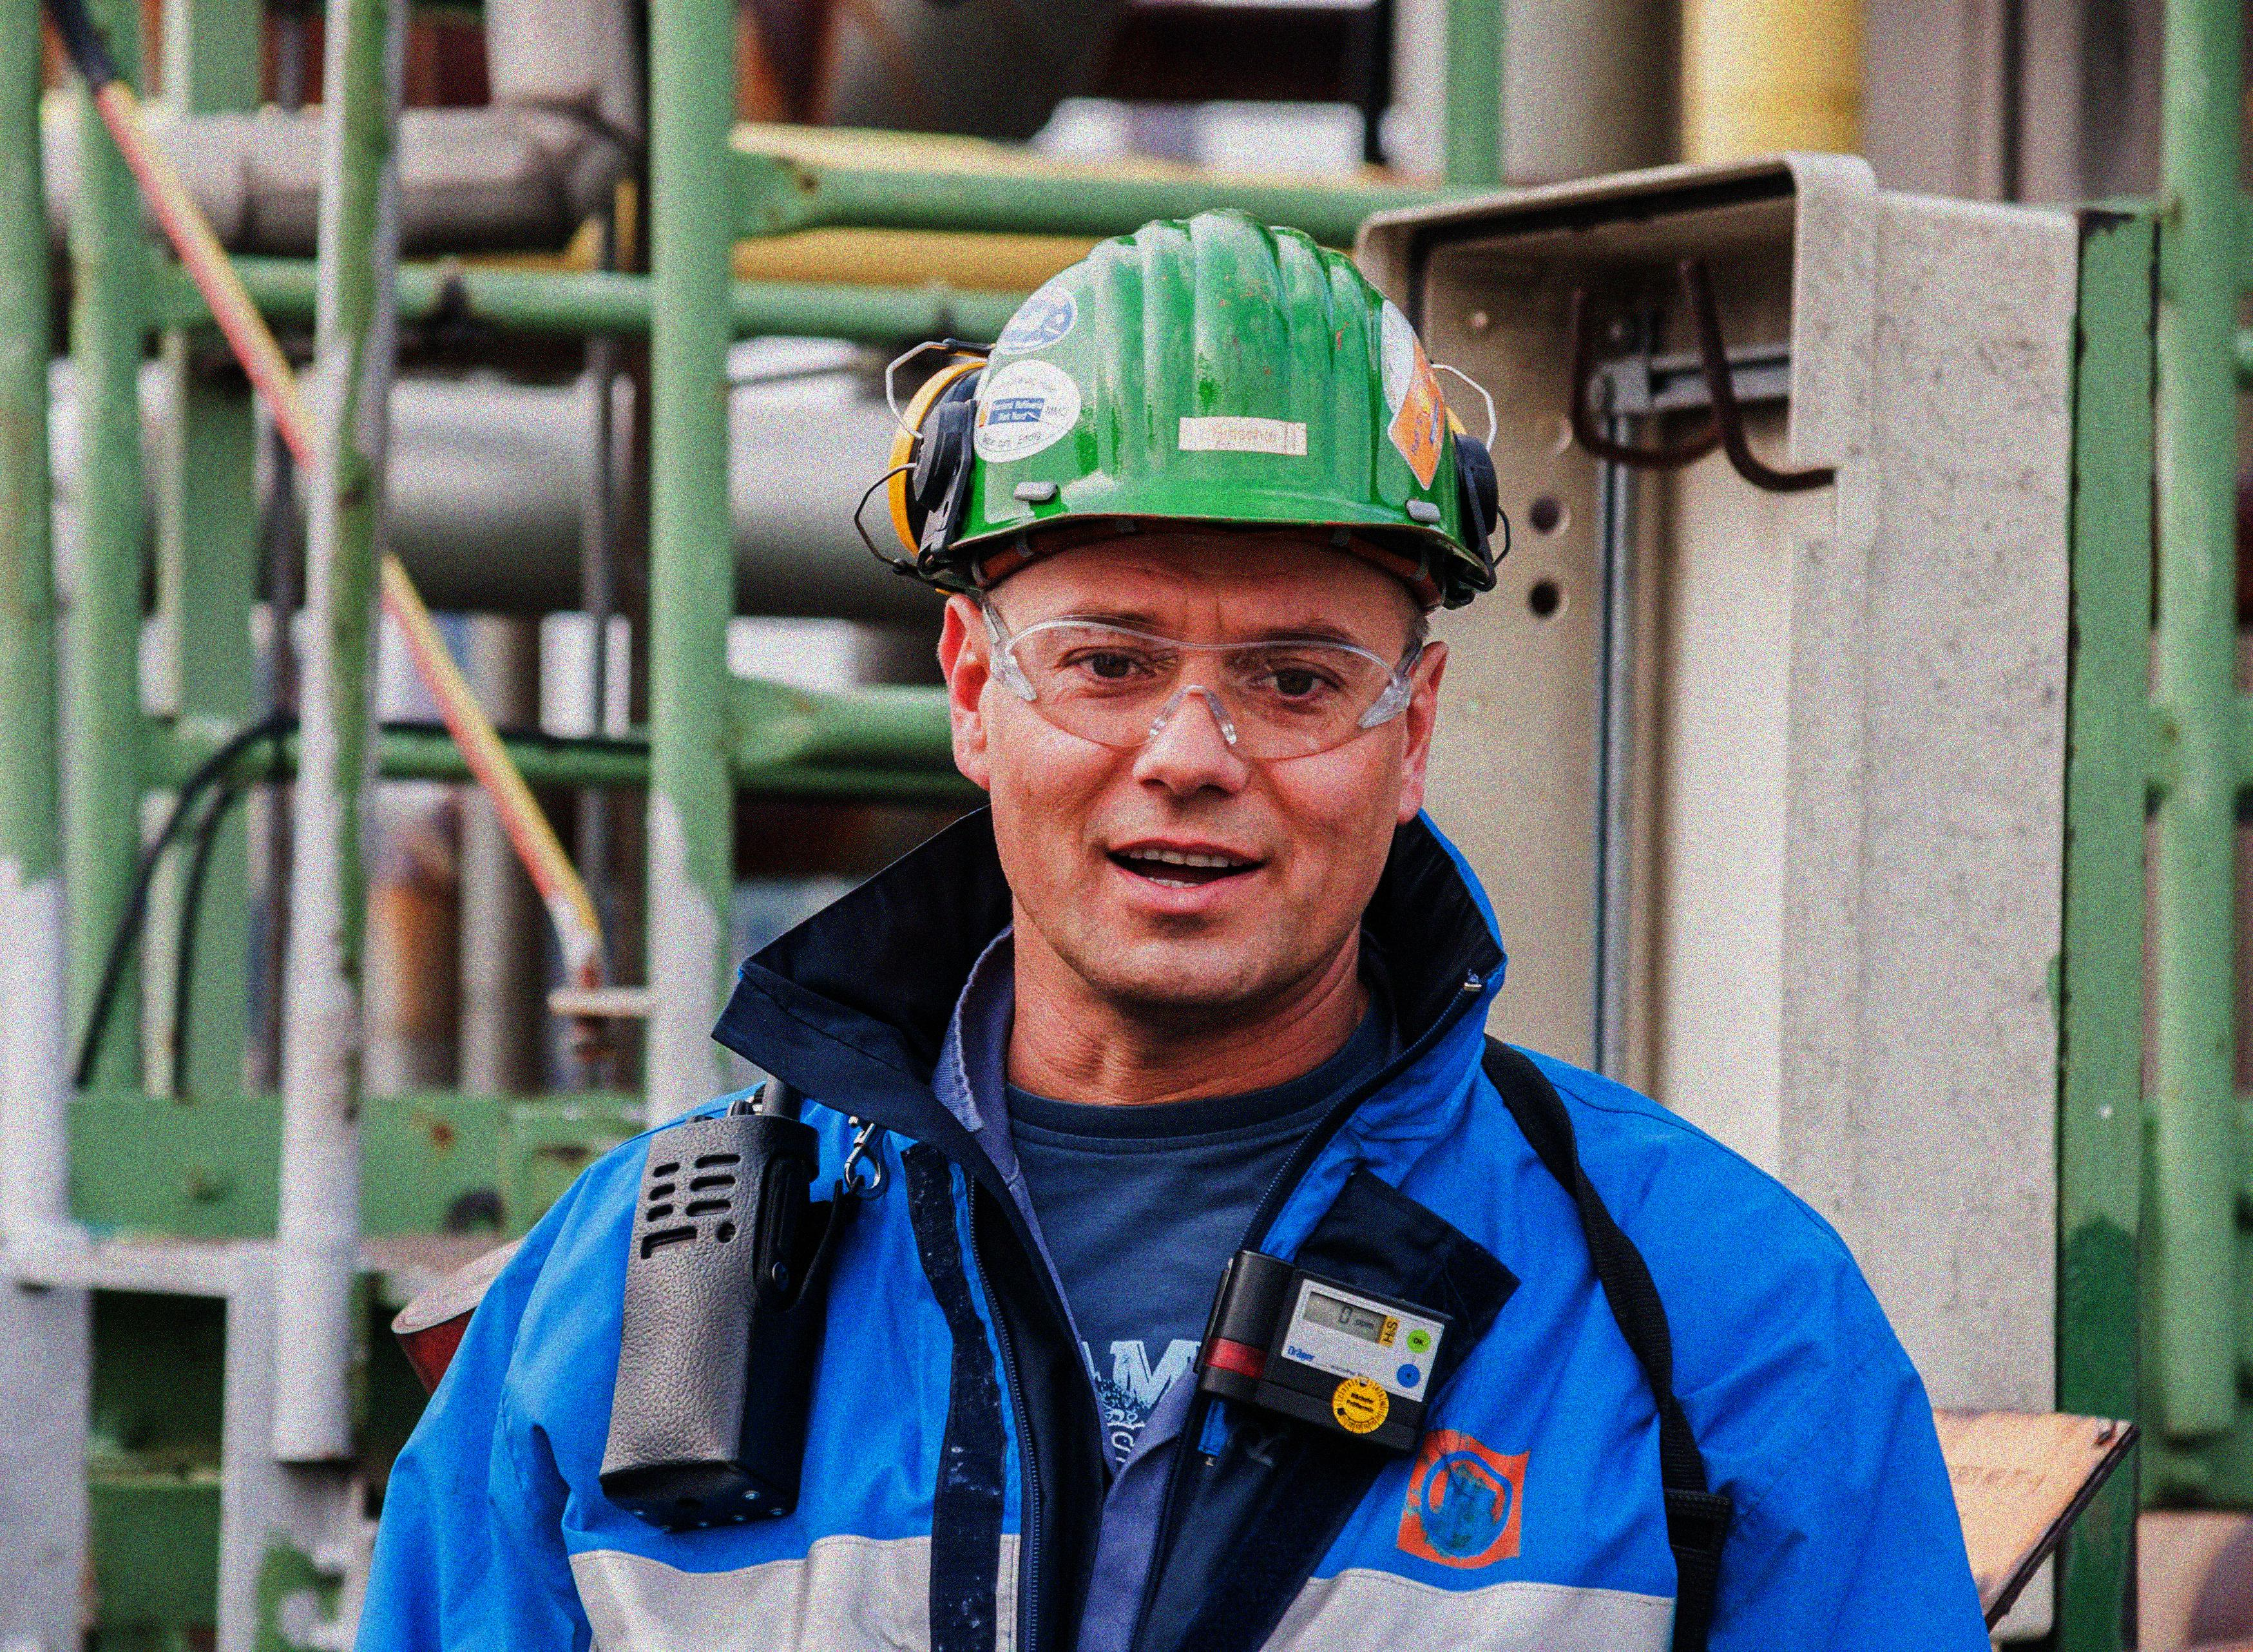helmet: (866, 205, 1518, 1036)
